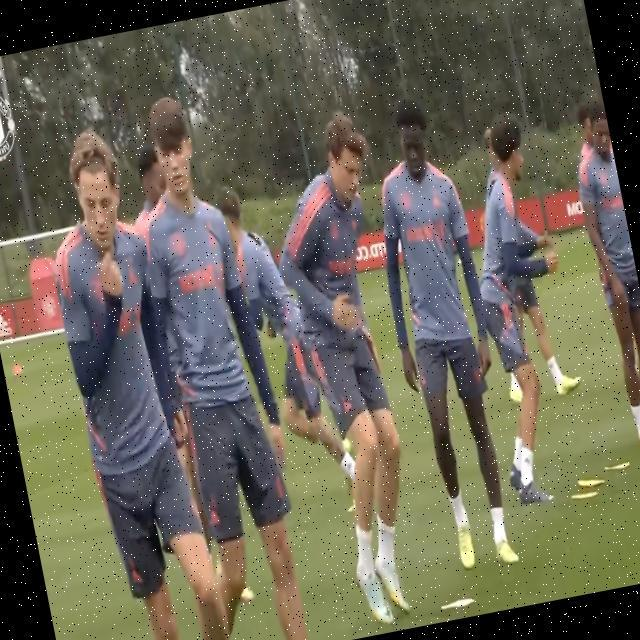Adidas: (0, 301, 15, 341), (206, 508, 221, 527), (341, 398, 354, 416)
